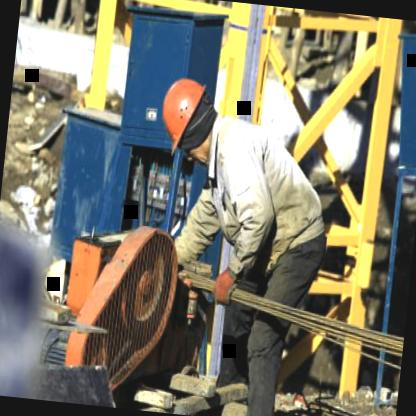helmet: (152, 69, 216, 166)
